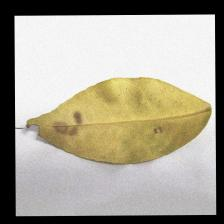canker: (19, 99, 166, 149)
